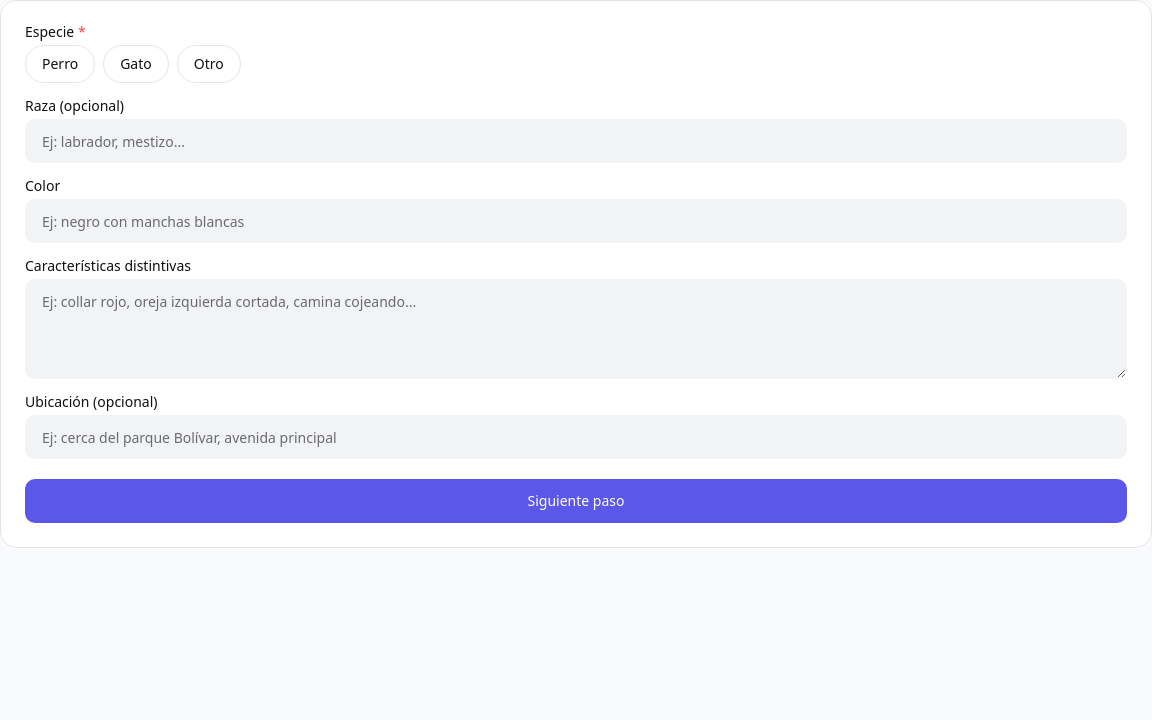
Scenario: ReporteForm (HU1/HU3 — rediseño Figma) › HU1: seleccionar una especie limpia el error de especie
What coordinates should you click on to do the following:
click the button "Siguiente paso"
I would click on:
 (576, 501)
Its box is [25, 479, 1127, 523].
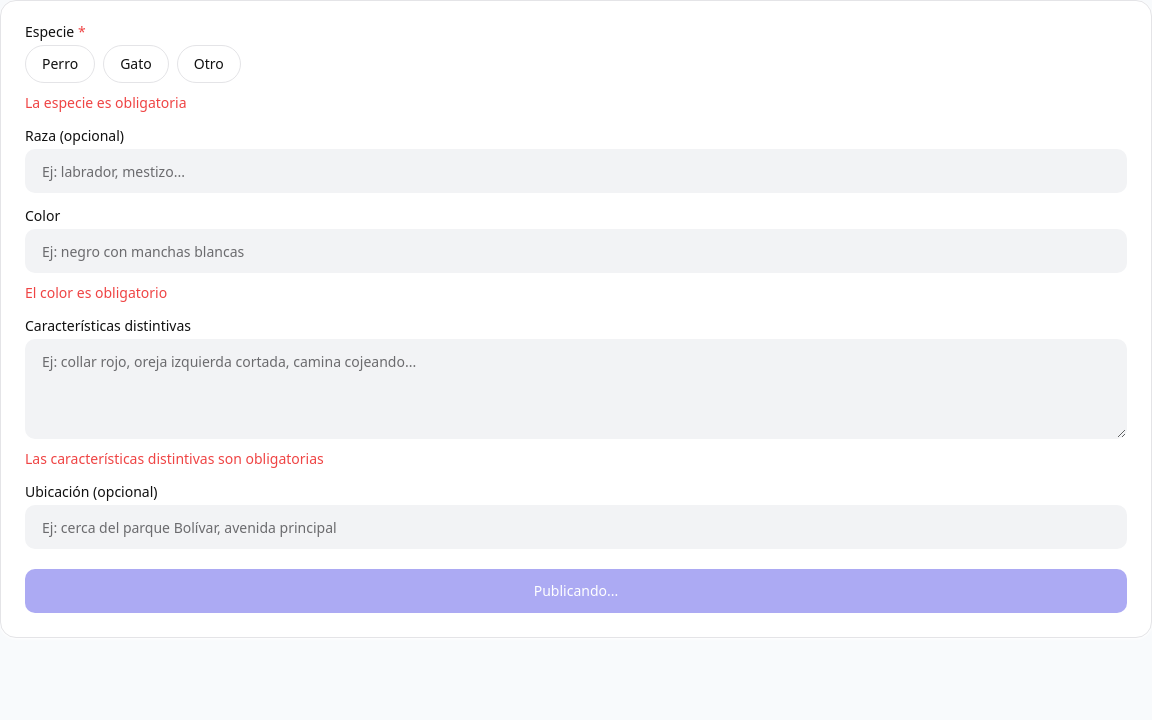
Now the text "La especie es obligatoria" is shown, box [25, 93, 187, 112]
What coordinates should you click on to do the following:
click the radio button labelled "gato"
I would click on:
 (136, 64)
Its box is [103, 45, 169, 83].
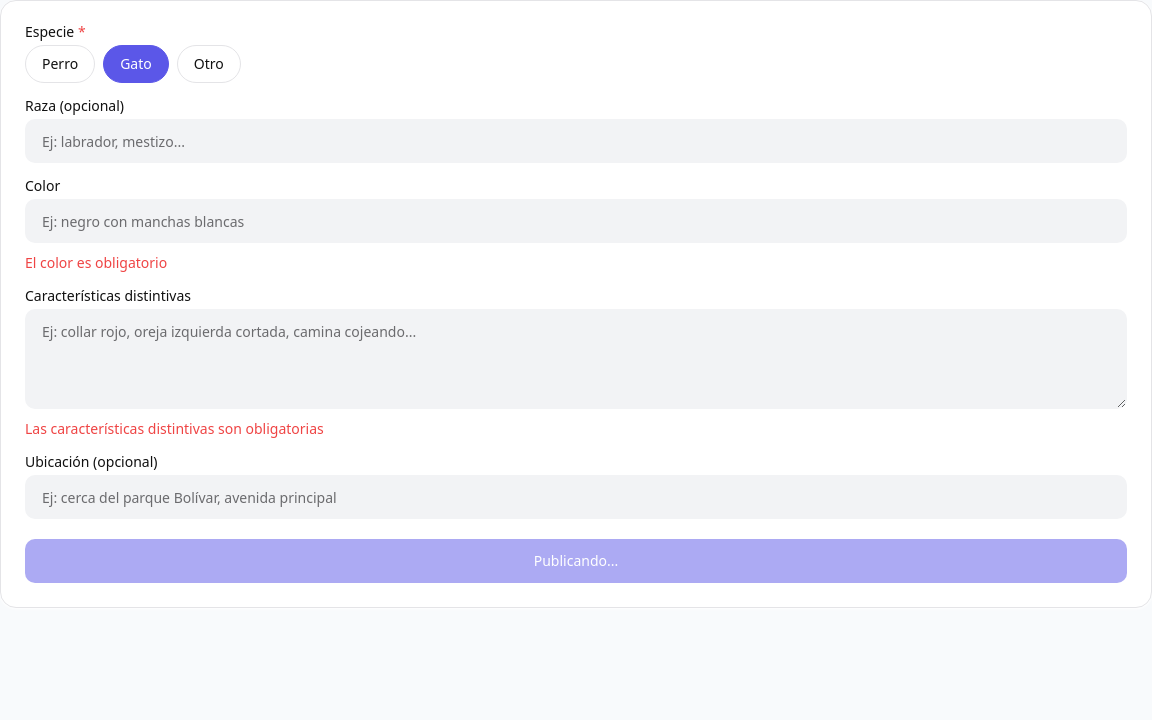
Now the text "La especie es obligatoria" is gone
